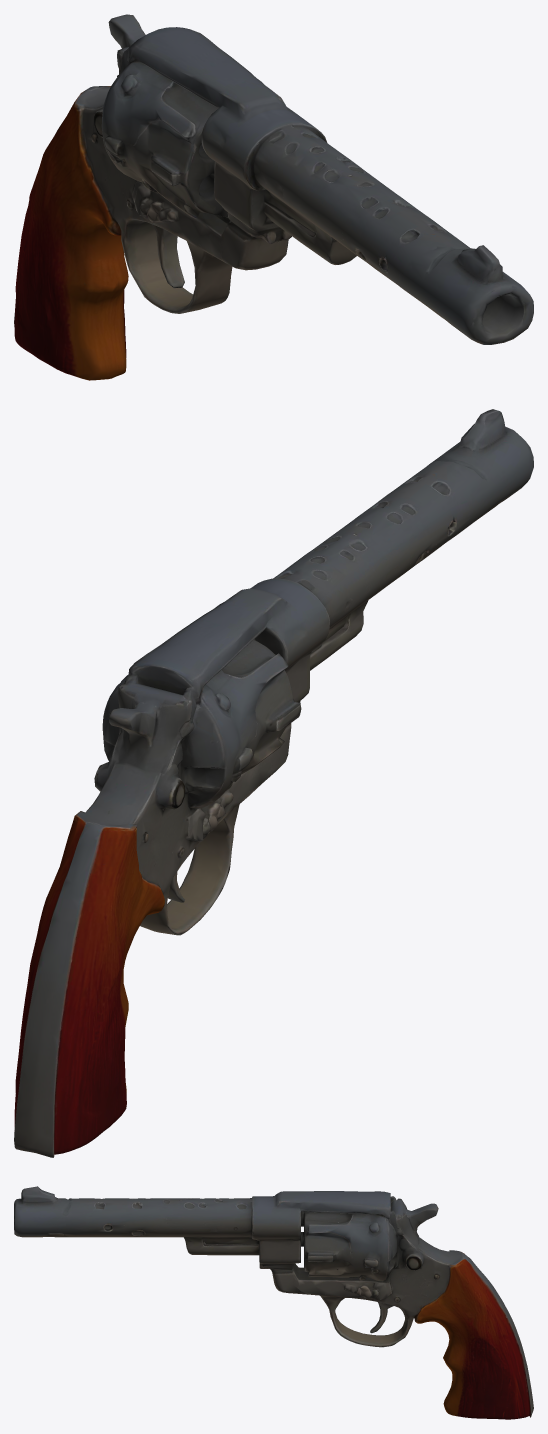
The model's file is bullet.glb.
The picture shows the model from 3 angles, top to bottom: view 1: azimuth 30°, elevation 25°; view 2: azimuth 150°, elevation 25°; view 3: azimuth 270°, elevation 25°; orthographic projection. The views are drawn at different scales.
Visible parts, largest first — view 1: tripo_node_c811136b-0e8f-4c76-b44c-1c4968bda098; view 2: tripo_node_c811136b-0e8f-4c76-b44c-1c4968bda098; view 3: tripo_node_c811136b-0e8f-4c76-b44c-1c4968bda098.
Part boxes in pixels (box(x1,y1,x2,y2)): tripo_node_c811136b-0e8f-4c76-b44c-1c4968bda098: box(14, 14, 533, 380); tripo_node_c811136b-0e8f-4c76-b44c-1c4968bda098: box(14, 409, 533, 1157); tripo_node_c811136b-0e8f-4c76-b44c-1c4968bda098: box(14, 1186, 533, 1419).
Bounding box in the file's own units: 0.0983 × 0.28 × 0.5846.
1 material, 1 textured.
